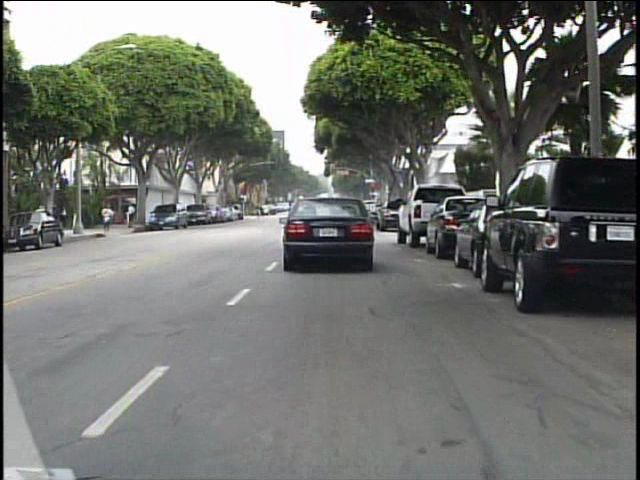person: (100, 199, 116, 236), (125, 199, 139, 231), (258, 200, 270, 221)
